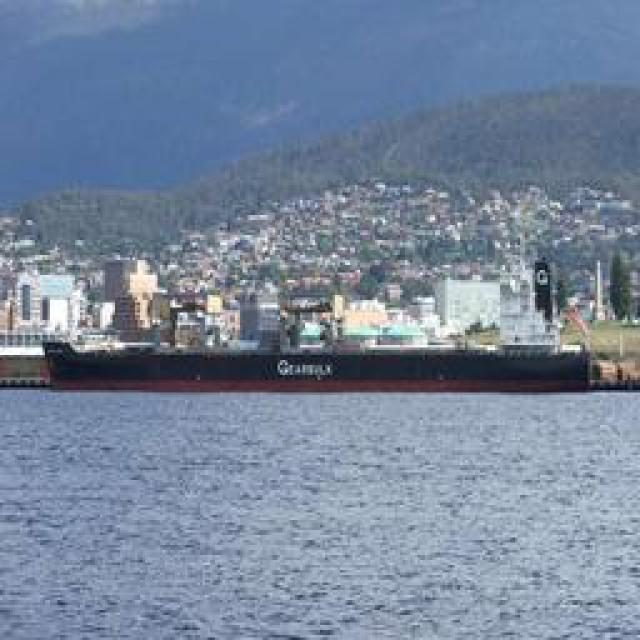Ship: (25, 334, 598, 394)
